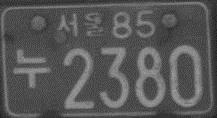0: (168, 44, 203, 108)
2: (62, 46, 95, 110)
3: (98, 45, 129, 109)
5: (135, 8, 156, 38)
8: (134, 46, 166, 108), (111, 10, 132, 39)
누: (12, 48, 50, 90)
서울_O: (56, 12, 106, 39)
